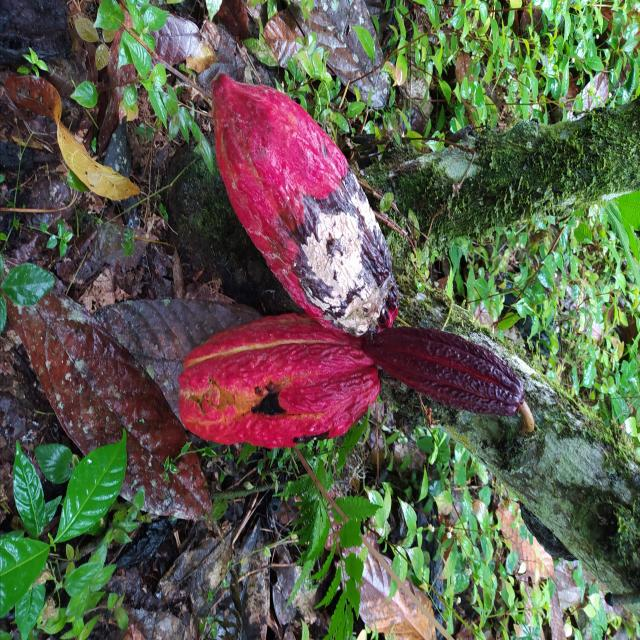Fitoftora: (176, 316, 381, 449)
Monilia: (212, 73, 400, 337)
Sana: (366, 328, 523, 419)
